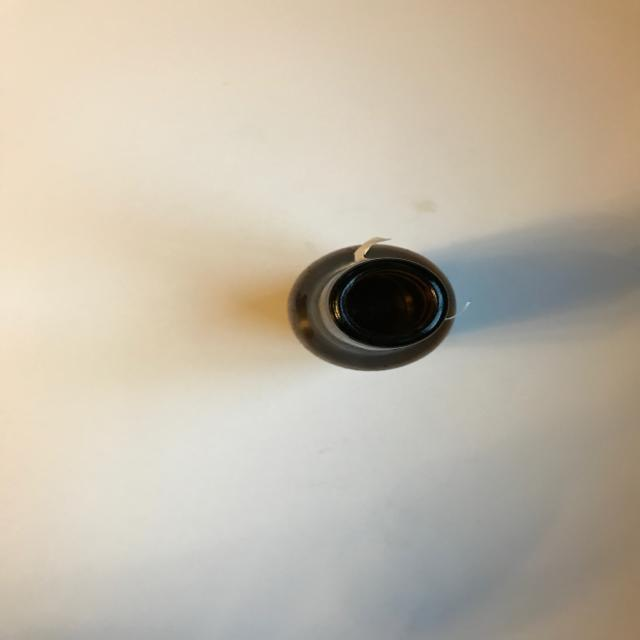glass: (287, 244, 458, 372)
